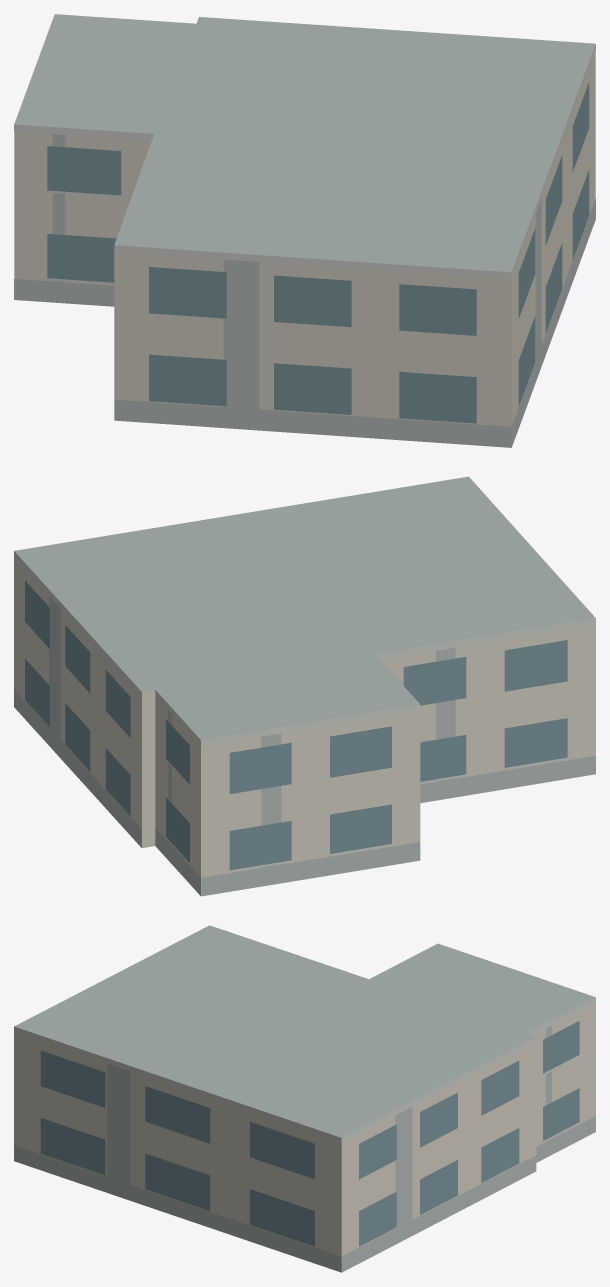
Rendered from survey-upis-32646972.glb.
3 renders of one model, top to bottom at view 1: azimuth 30°, elevation 25°; view 2: azimuth 150°, elevation 25°; view 3: azimuth 270°, elevation 25°, orthographic. The views are drawn at different scales.
Parts seen in each view (by area): view 1: survey-upis-32646972.tmp; view 2: survey-upis-32646972.tmp; view 3: survey-upis-32646972.tmp.
Boxes of the visible parts, <box> form: survey-upis-32646972.tmp: <box>14,14,595,447</box>; survey-upis-32646972.tmp: <box>14,476,595,896</box>; survey-upis-32646972.tmp: <box>14,925,595,1272</box>.
Size of the model in its own units: 20.66 by 6.1 by 23.88.
